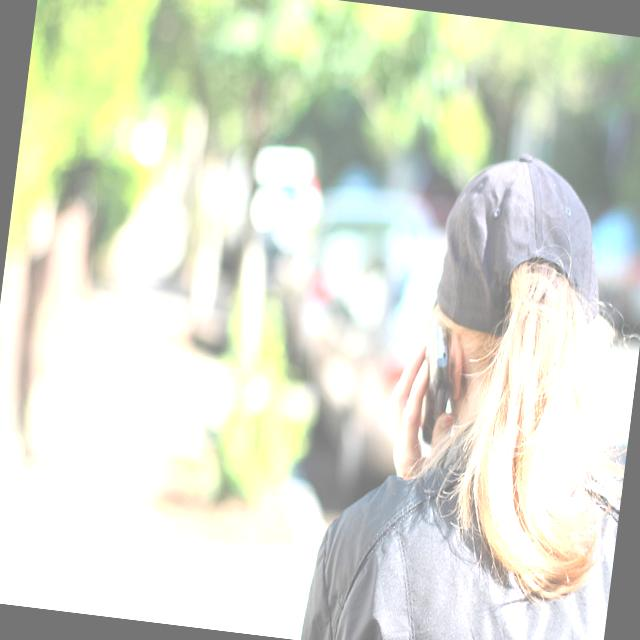Vehicle: (271, 214, 452, 496), (262, 176, 442, 347), (238, 140, 332, 278), (580, 204, 640, 344)
